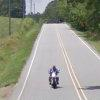Motorcycle: (44, 61, 64, 94)
